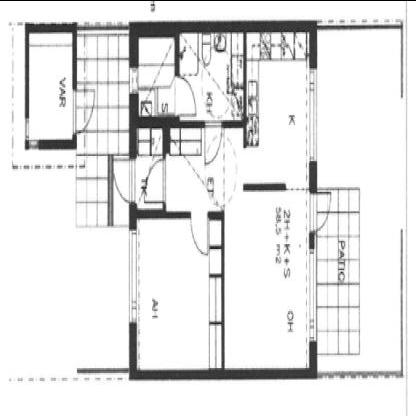door: (110, 151, 136, 208), (141, 153, 167, 210), (306, 183, 332, 239), (174, 63, 198, 120), (73, 80, 97, 136), (189, 200, 211, 257), (200, 115, 224, 167)
window: (304, 241, 320, 345), (126, 219, 140, 330), (305, 63, 318, 169), (126, 61, 142, 97), (26, 132, 40, 158), (24, 108, 32, 142)
